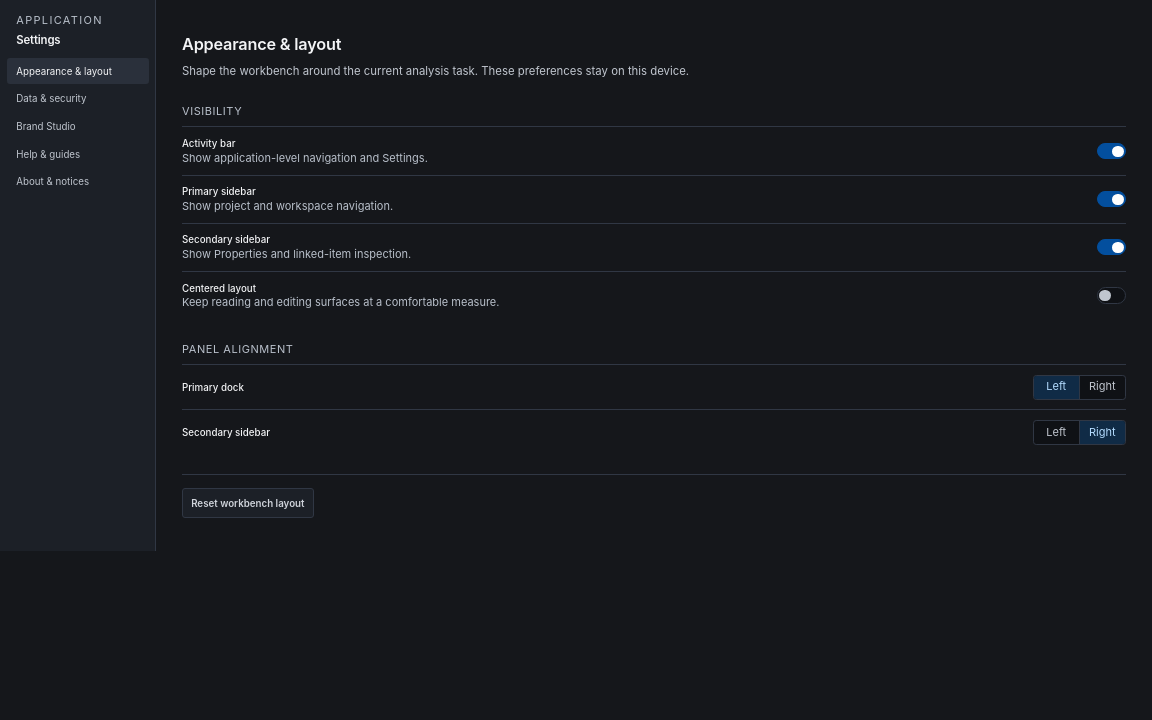
Scenario: SettingsWorkspace › exposes project-local Brand Studio only when a project is open
This screenshot has width=1152, height=720.
Step 1. Click the tab "Brand Studio" → coordinates (78, 126), box left=6, top=113, right=148, bottom=139
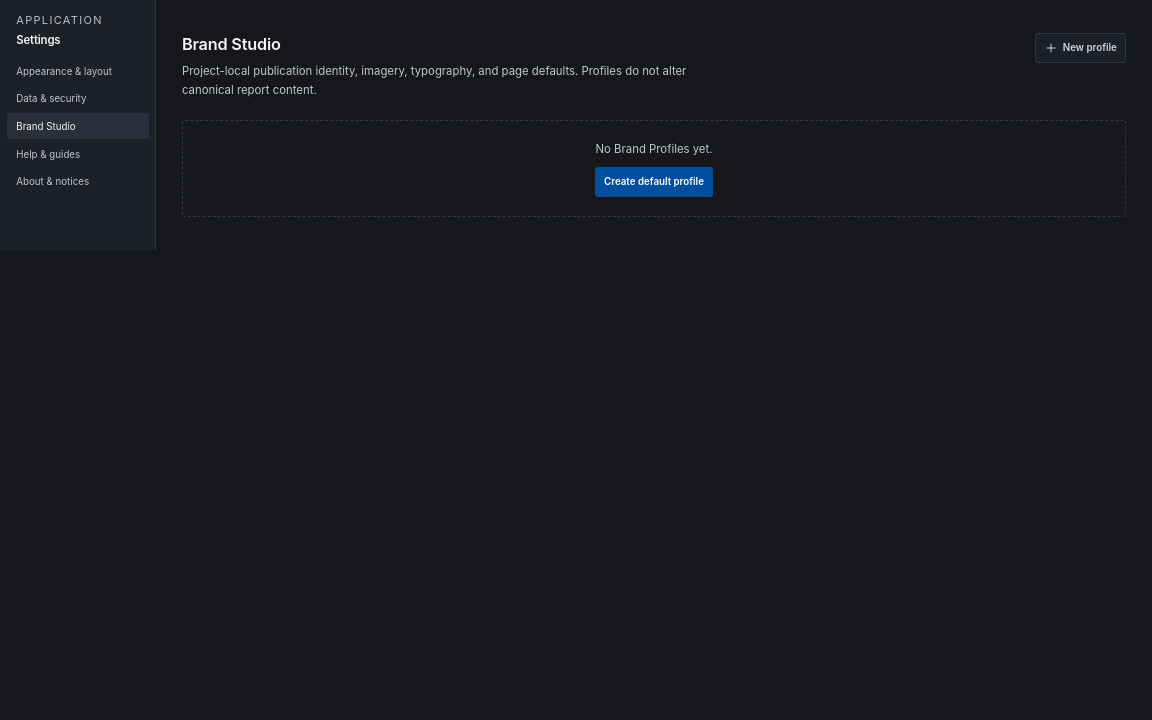
Check: the heading "Brand Studio" is shown, box left=182, top=34, right=281, bottom=54
Check: the text "No Brand Profiles yet." is shown, box left=596, top=142, right=712, bottom=156
